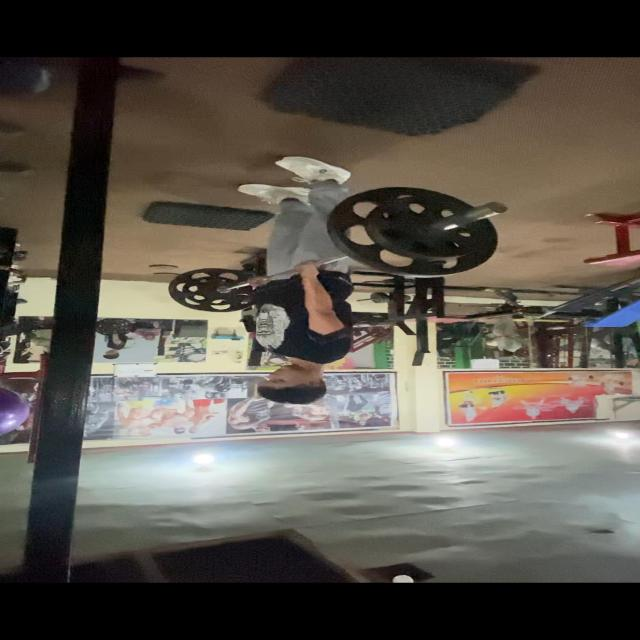nohelmet: (251, 359, 331, 415)
